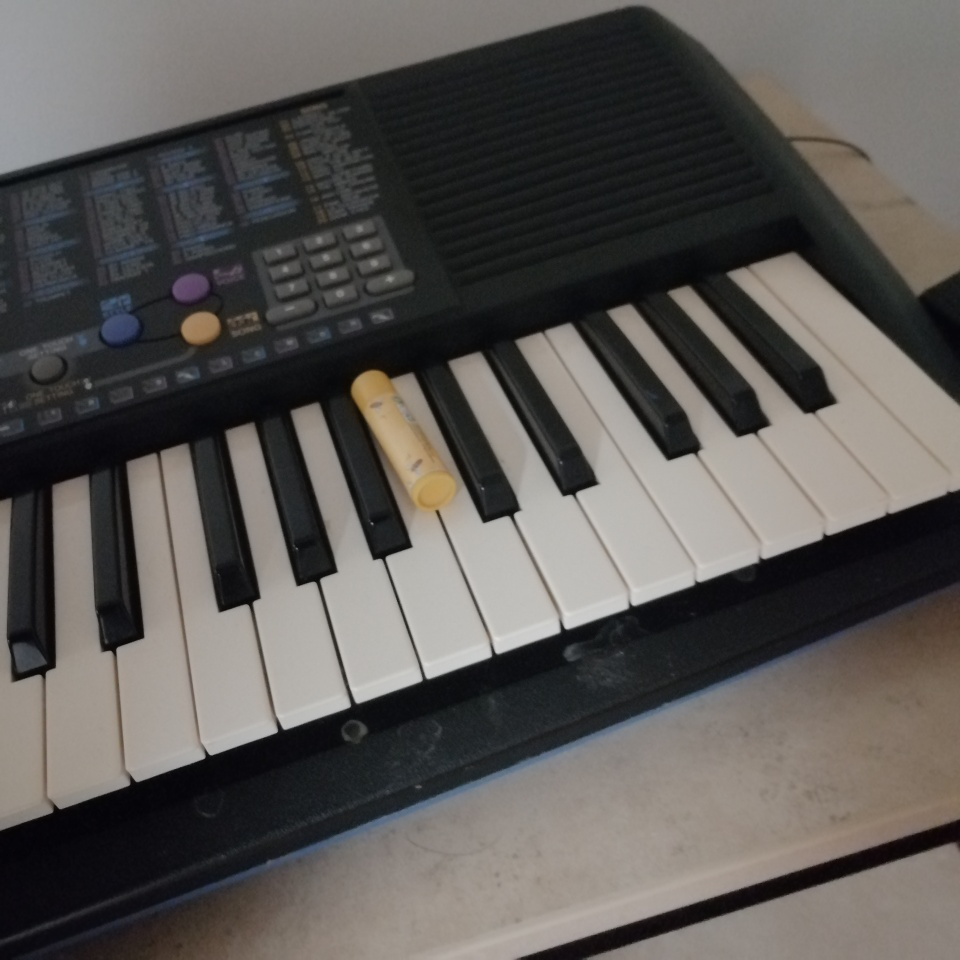chapstick: (350, 365, 456, 513)
